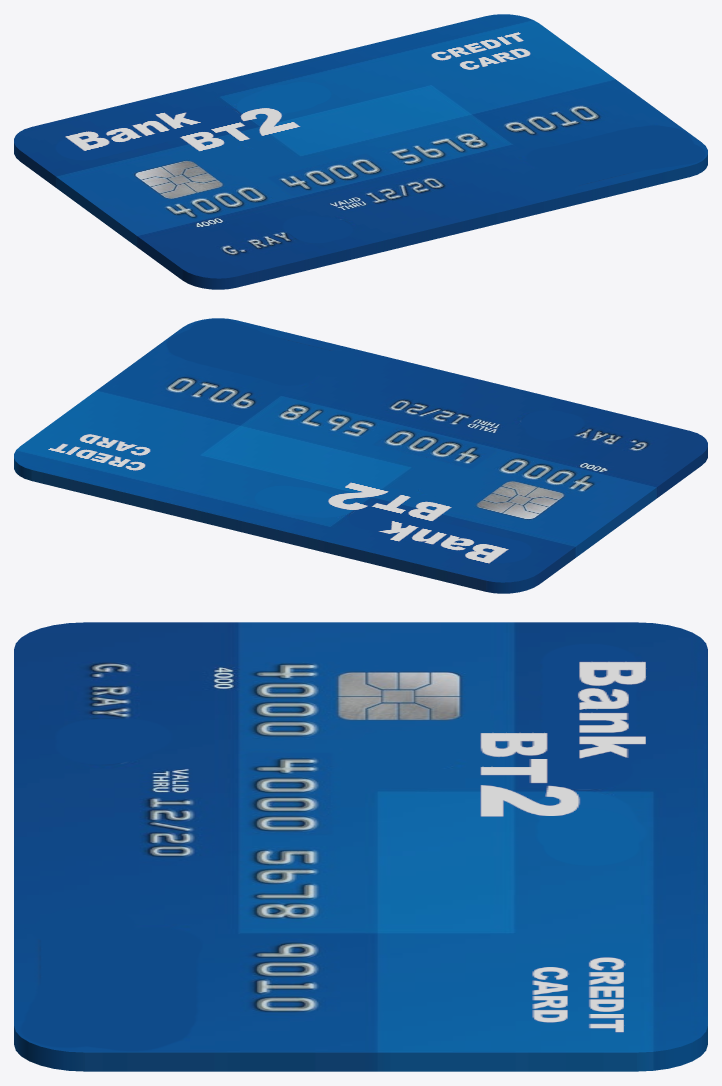
The model's file is Credit card 1.FBX.
3 views of the same model, one above another, from view 1: azimuth 30°, elevation 25°; view 2: azimuth 150°, elevation 25°; view 3: azimuth 270°, elevation 25° (orthographic). The views are drawn at different scales.
Parts seen in each view (by area): view 1: Credit card; view 2: Credit card; view 3: Credit card.
Part boxes in pixels (x1,y1,x2,y2): Credit card: (14, 14, 707, 289); Credit card: (14, 318, 707, 593); Credit card: (14, 622, 707, 1071).
Size of the model in its own units: 9.09 by 0.1873 by 6.2.
1 material, 1 textured.
